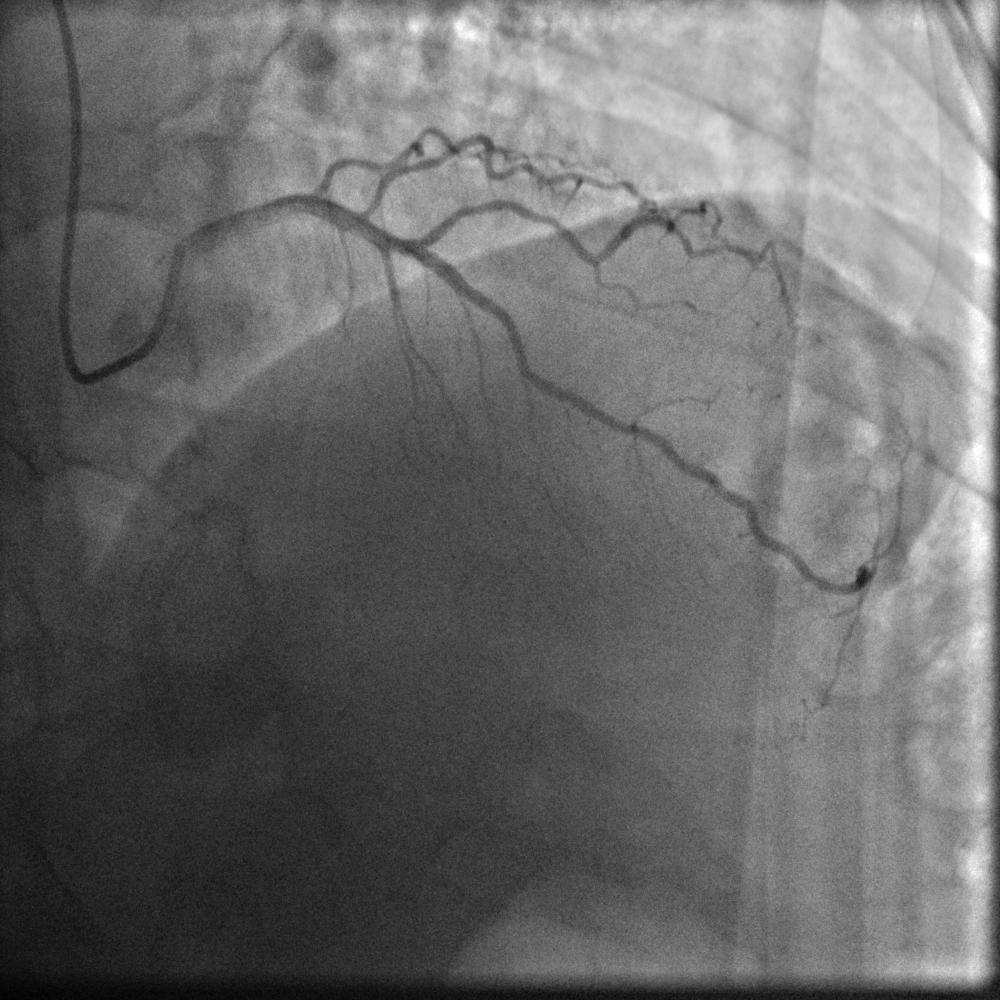Stenosis: (306, 163, 386, 223)
